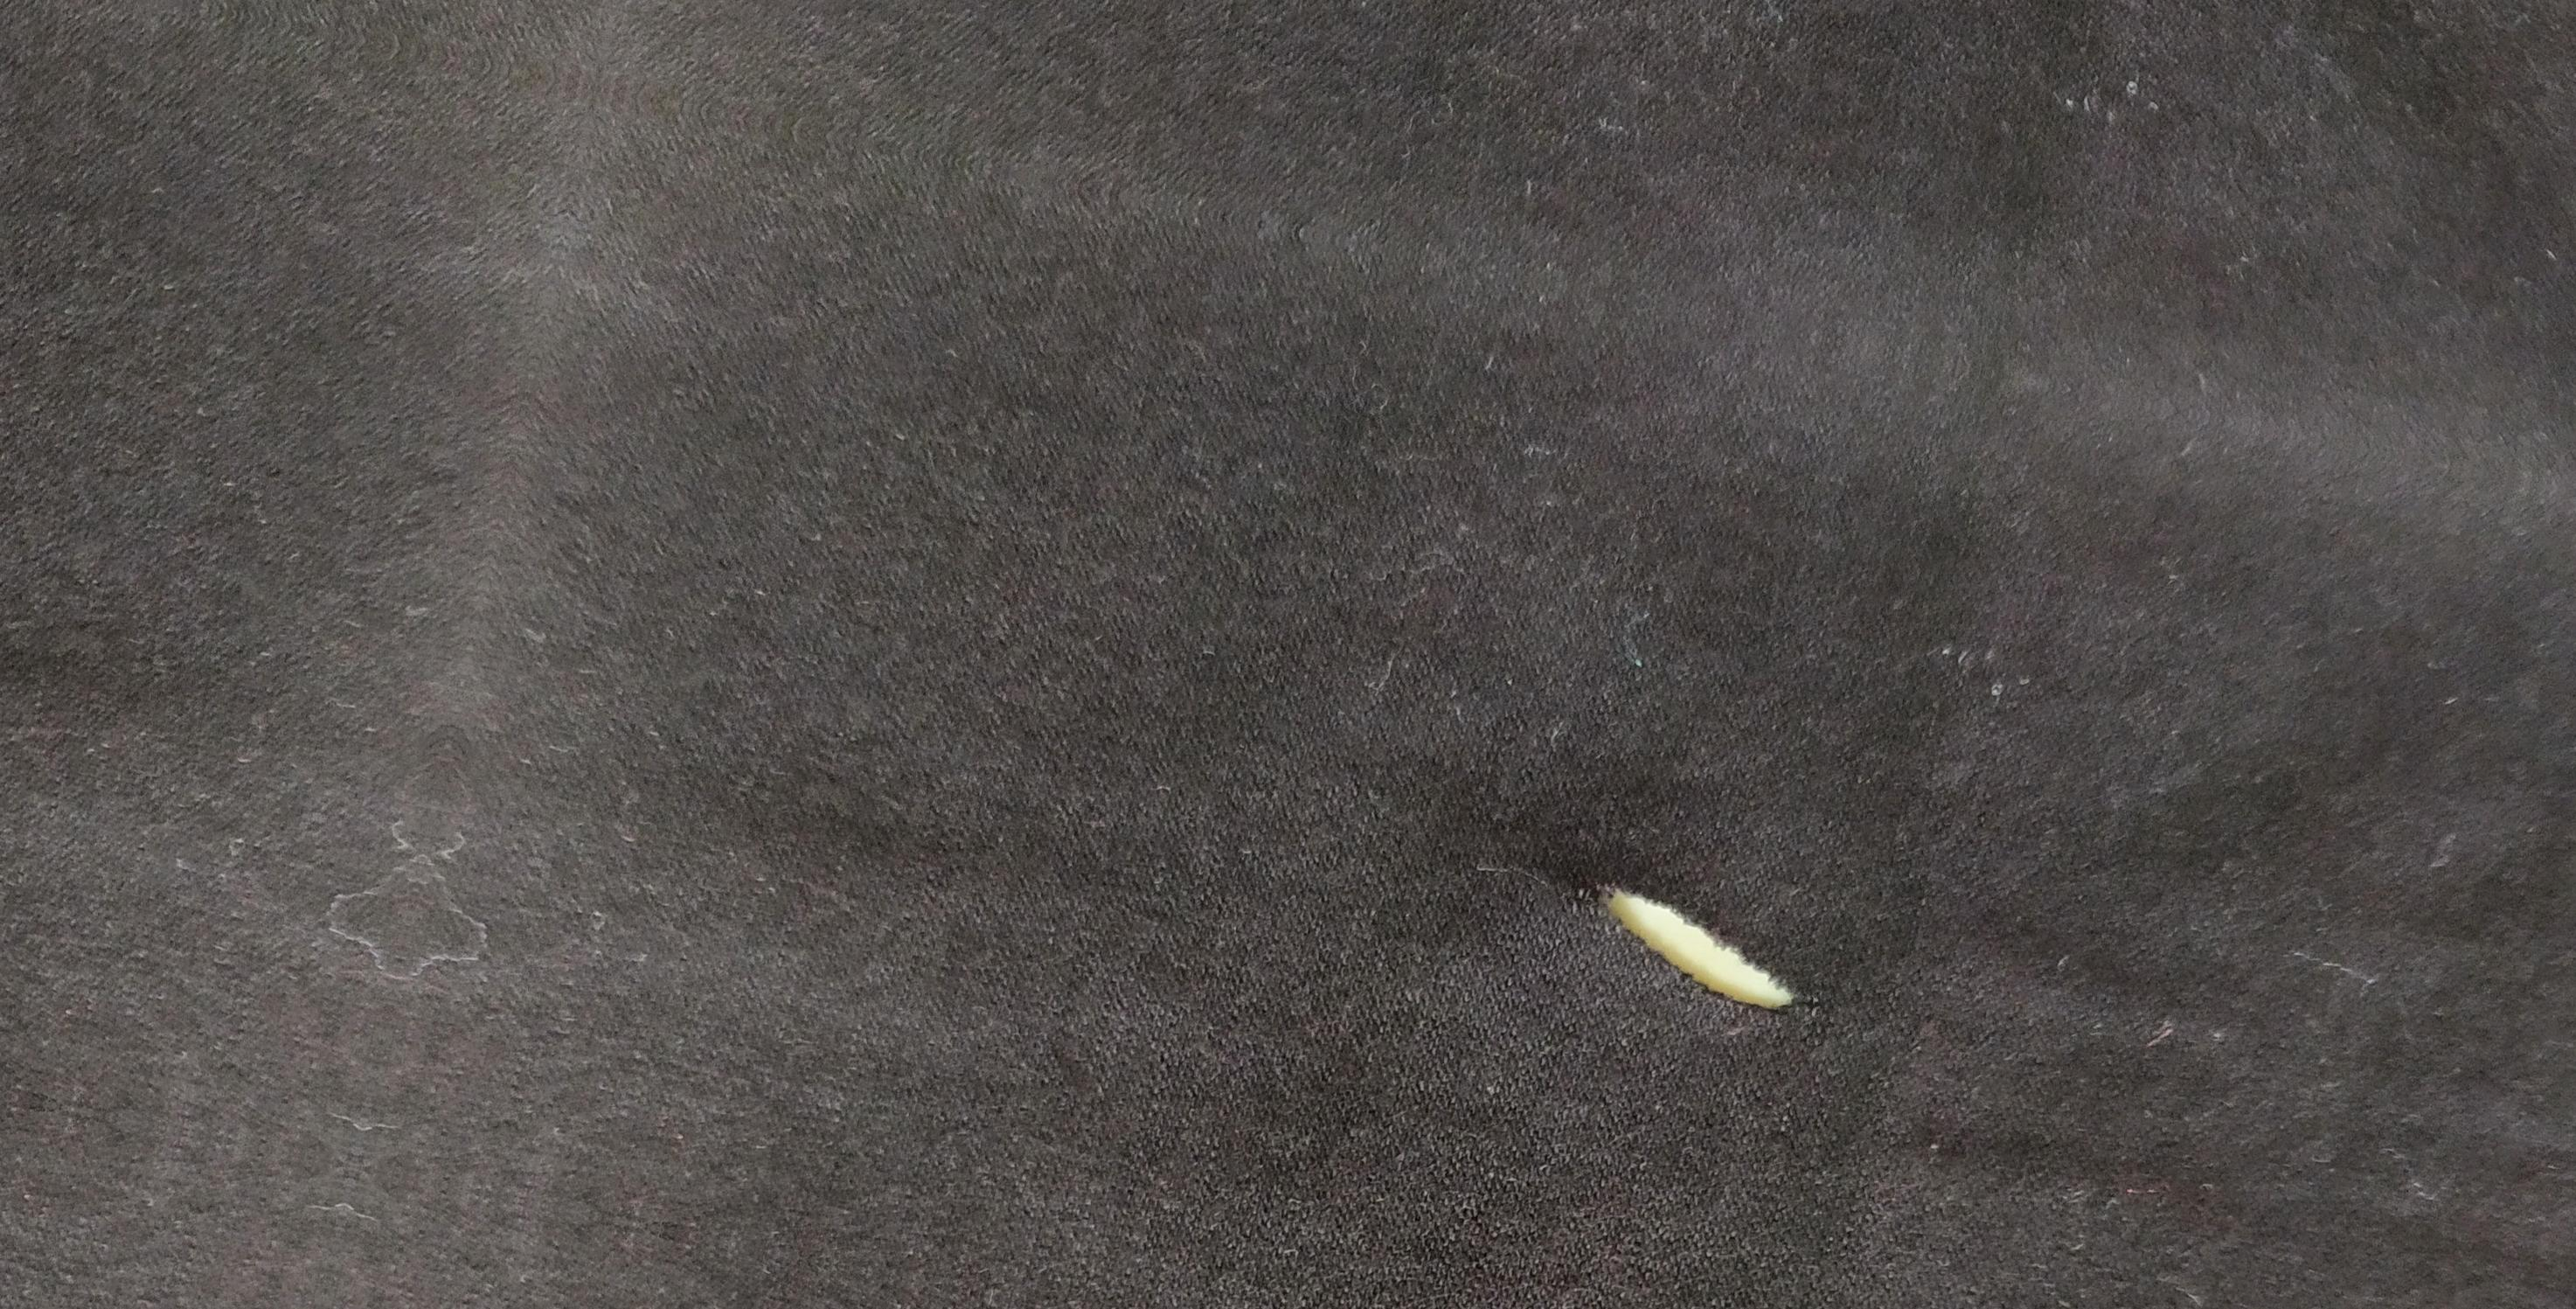hole: (1580, 863, 1827, 1034)
